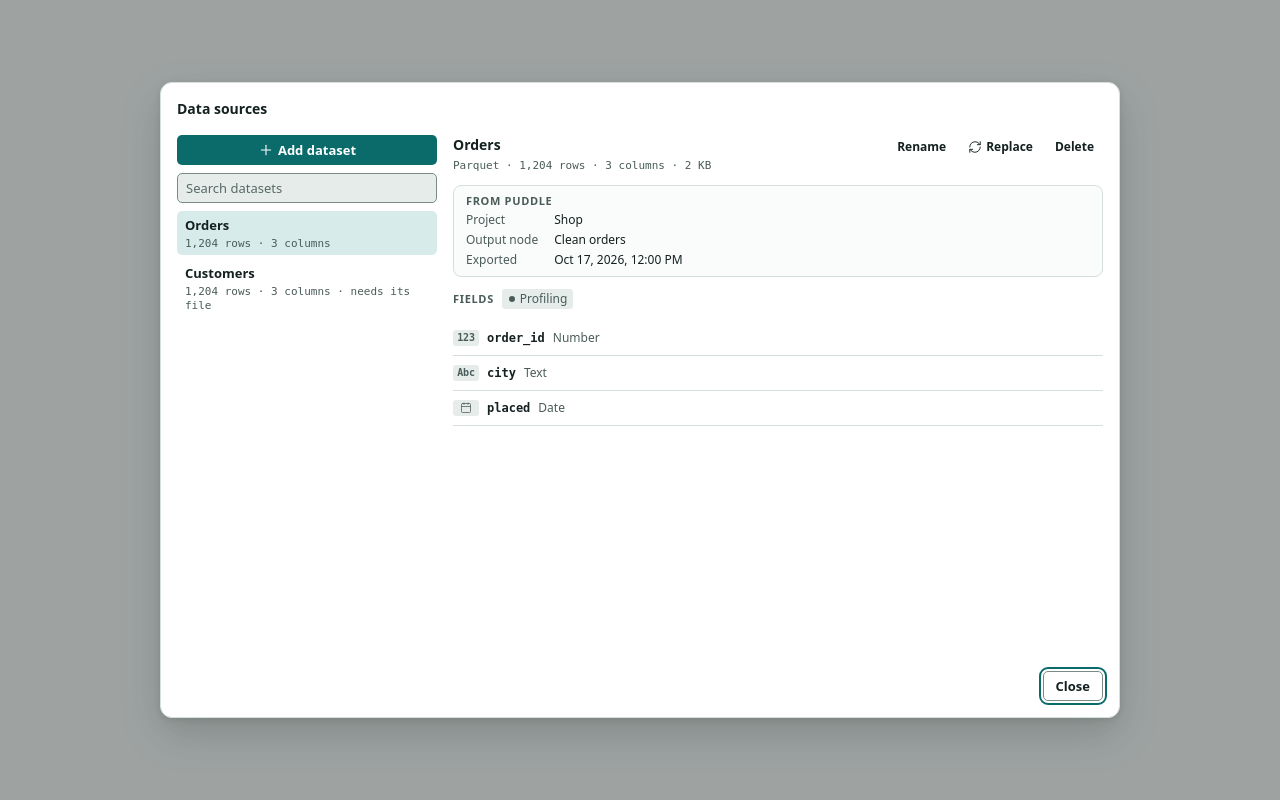
Test: the data source picker › asks for the file of a dataset that isn’t kept
The width and height of the screenshot is (1280, 800).
Click the text "Customers": [220, 273] box [185,263,255,283]
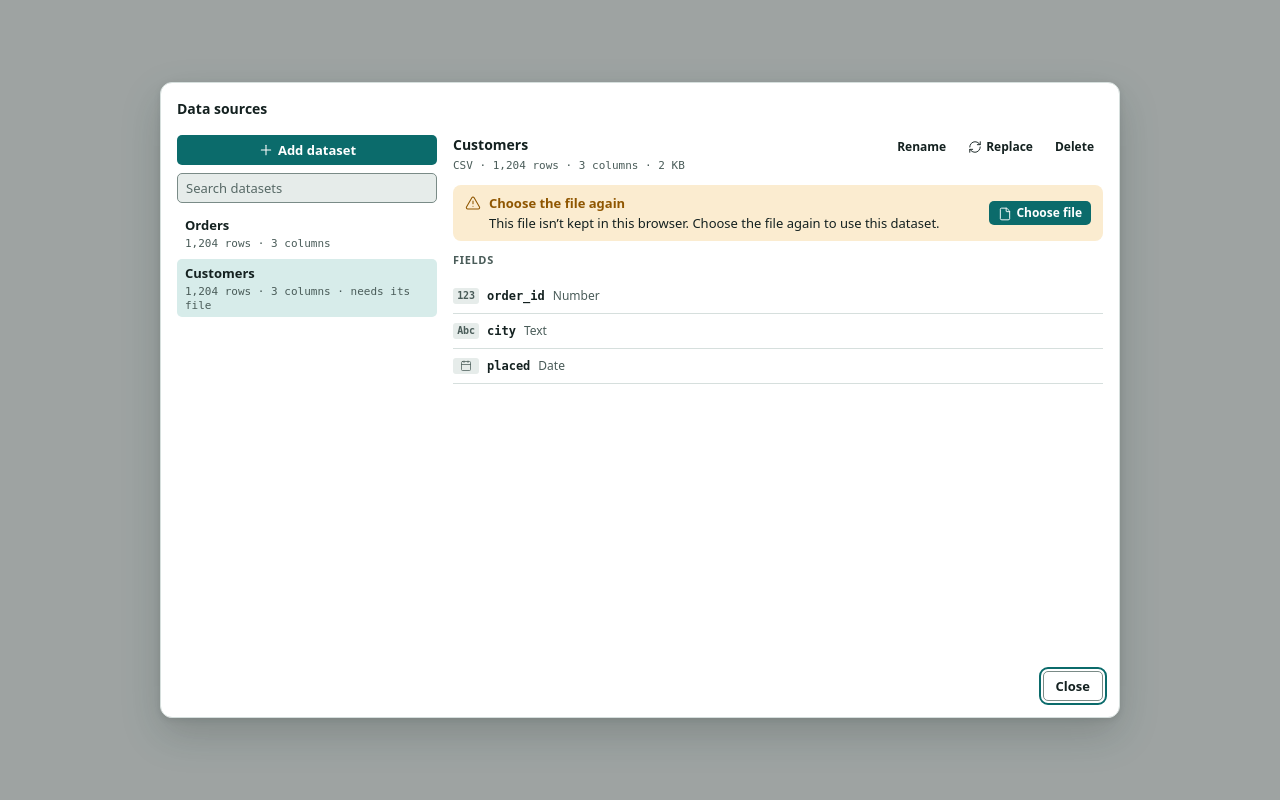
Expected: the text "1,204 rows · 3 columns · needs its file" is shown, [185,285,429,313]
Now the message shows "Choose the file again", box [489,194,625,212]
Now the button "Choose file" is shown, box [989,200,1091,224]
